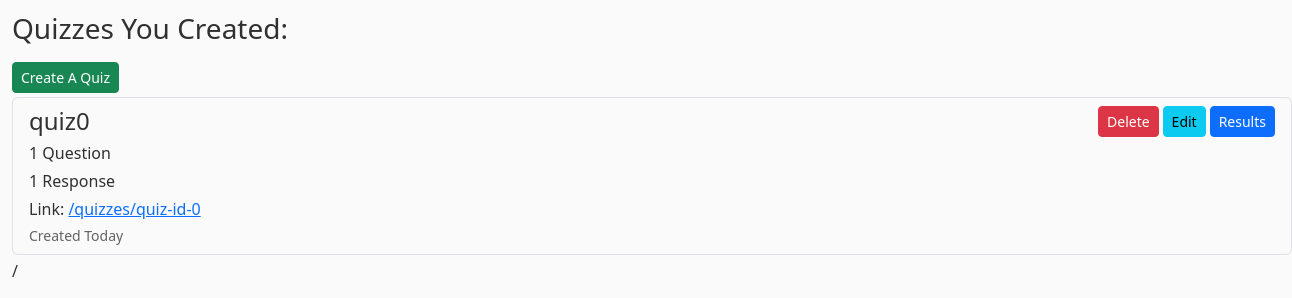
QuizList › redirects when clicking the create quiz button
The image size is (1292, 298).
Click the link "Create A Quiz" at (66, 77), box x1=12 y1=62 x2=119 y2=93
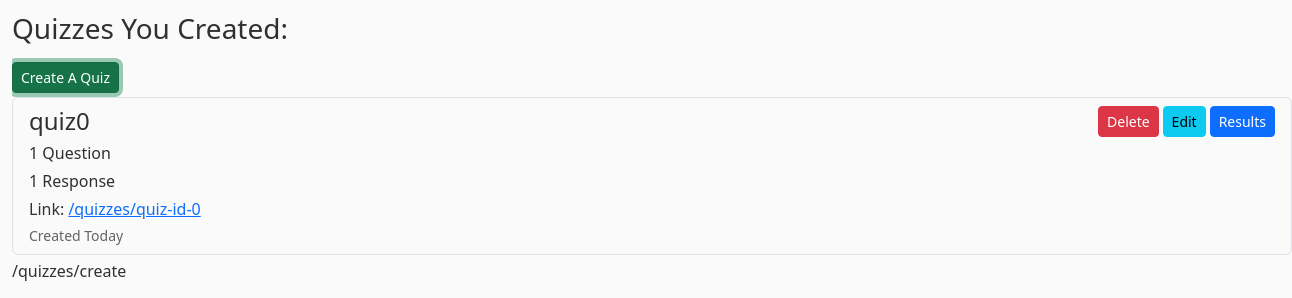
Expected: the text with test id "router-location" reads "/quizzes/create", x1=12 y1=260 x2=126 y2=282
